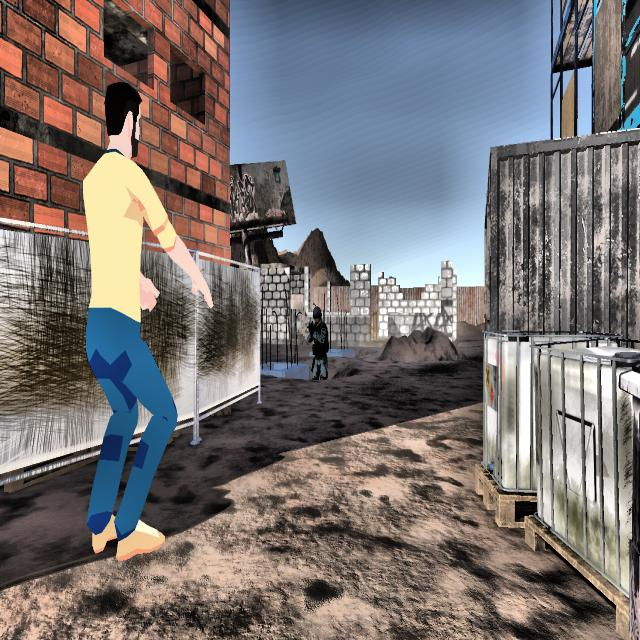bad: (300, 290, 332, 390)
good: (56, 77, 220, 592)
